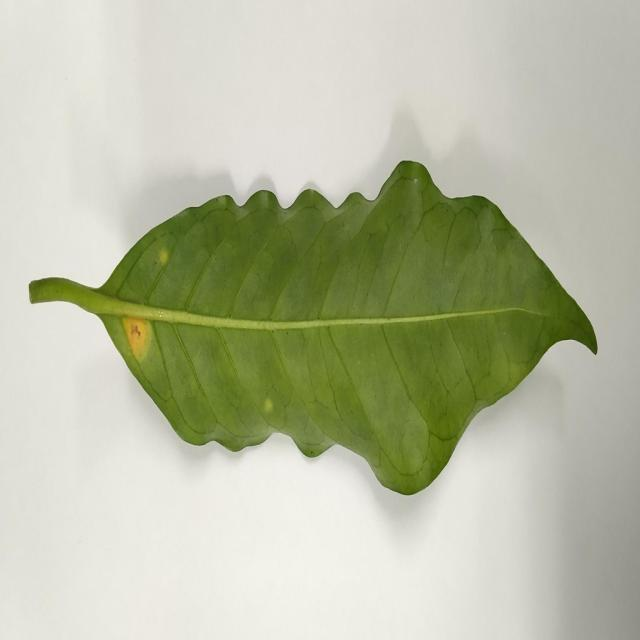Enfermedad-Roya: (27, 159, 600, 499)
